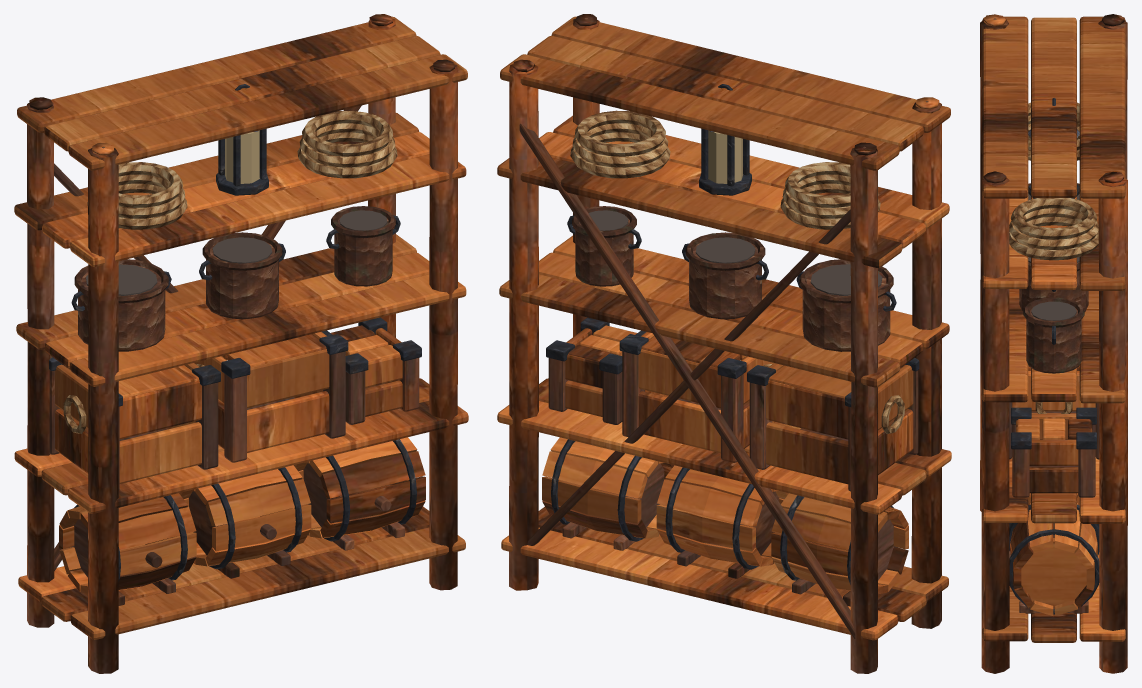
Rendered from mg_supply_shelf.glb.
The picture shows the model from 3 angles, left to right: view 1: azimuth 30°, elevation 25°; view 2: azimuth 150°, elevation 25°; view 3: azimuth 270°, elevation 25°; orthographic projection. The views are drawn at different scales.
Visible parts, largest first — view 1: model; view 2: model; view 3: model.
Boxes of the visible parts, <box> form: model: <box>14,14,468,673</box>; model: <box>497,14,951,673</box>; model: <box>980,14,1127,673</box>.
Bounding box in the file's own units: 1.21 × 1.56 × 0.4258.
Materials: 19 (17 with a texture image).
